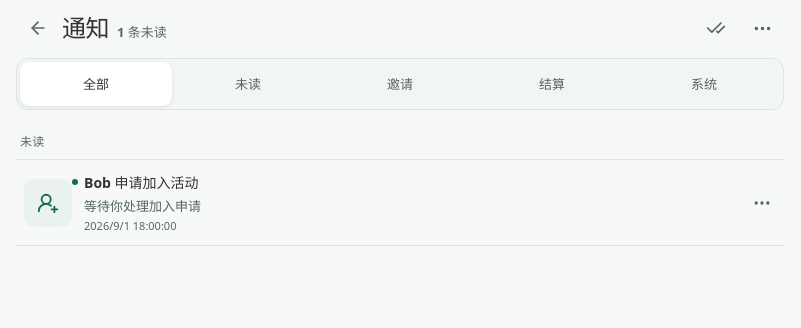
it: NotificationsPage › 筛选无结果时保留紧凑图标而不显示插画
The width and height of the screenshot is (801, 328).
Click the button "结算" at coordinates (552, 84), box 476,62 -> 628,106
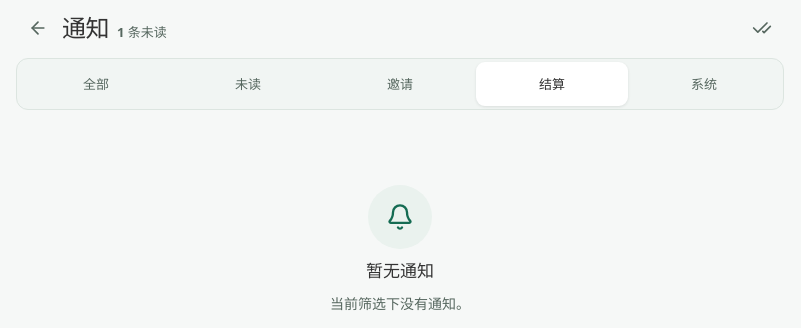
Expected: the element with class "empty-state__icon" is shown, 368,185 -> 432,249
